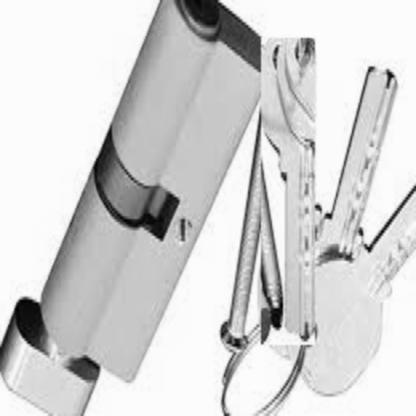key: (307, 136, 416, 402), (321, 53, 394, 320), (261, 38, 315, 345)
